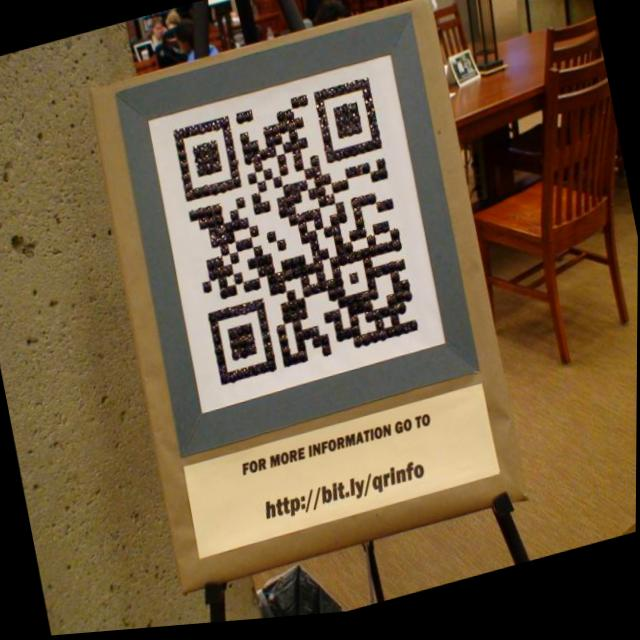qrcode: (173, 81, 421, 392)
